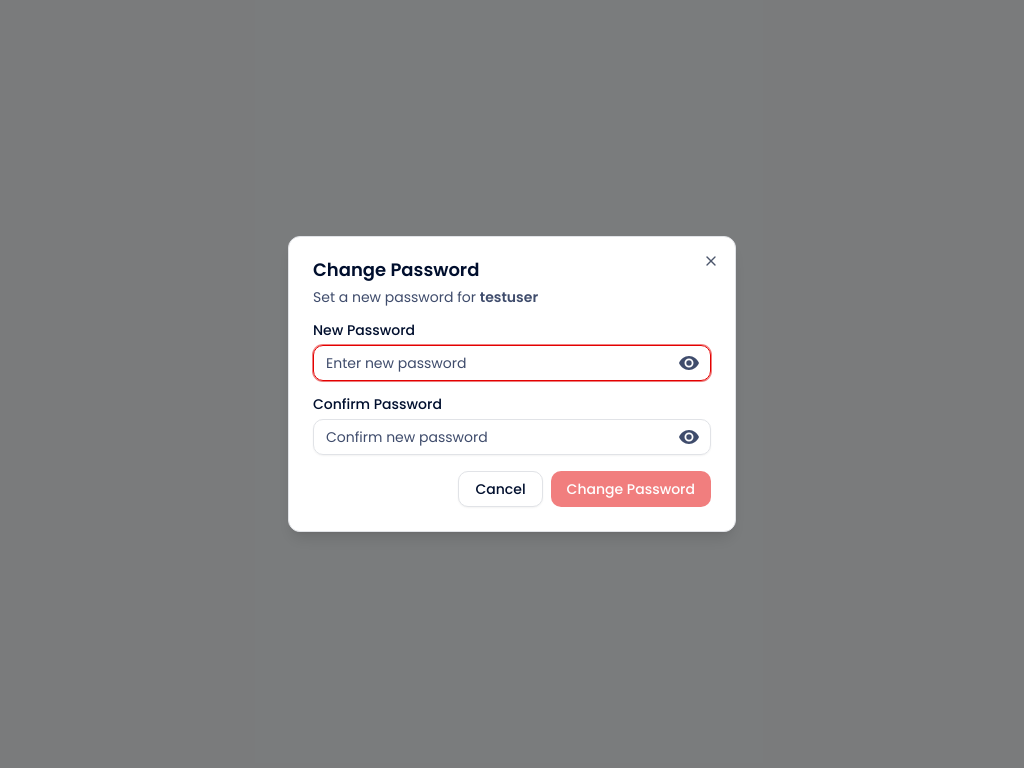
Test: ChangePasswordDialog › shows validation error when password is too short after blur
In the password field with placeholder "Enter new password": (512, 363) 313,345 -> 711,381, type "short"
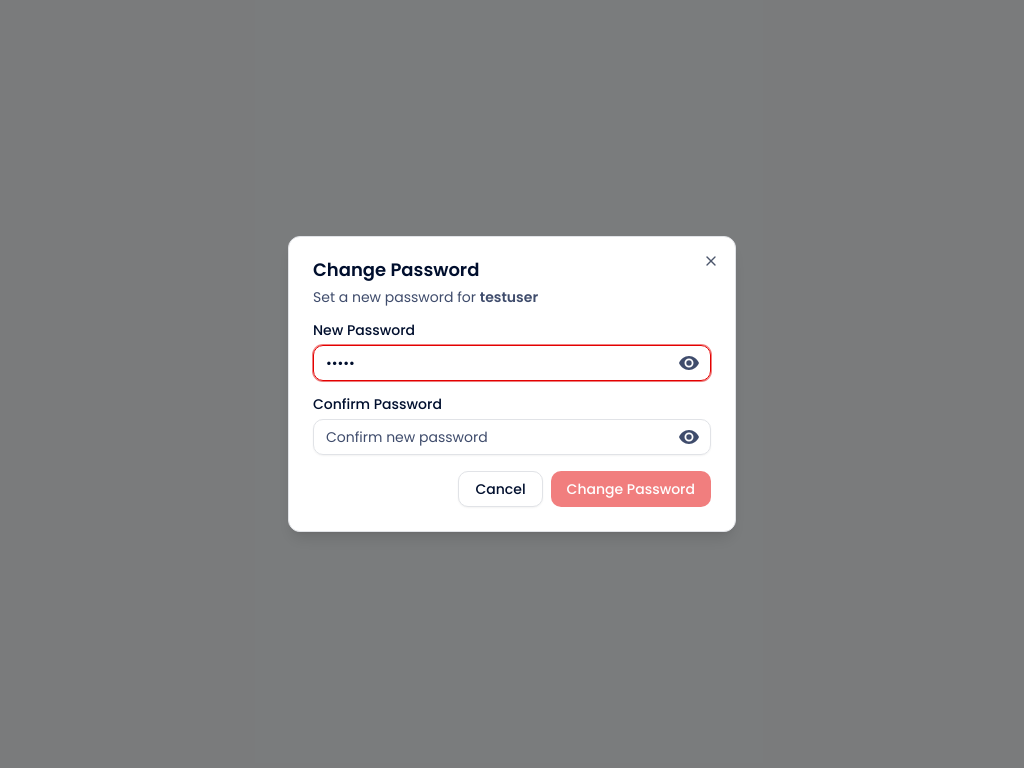
Press Tab
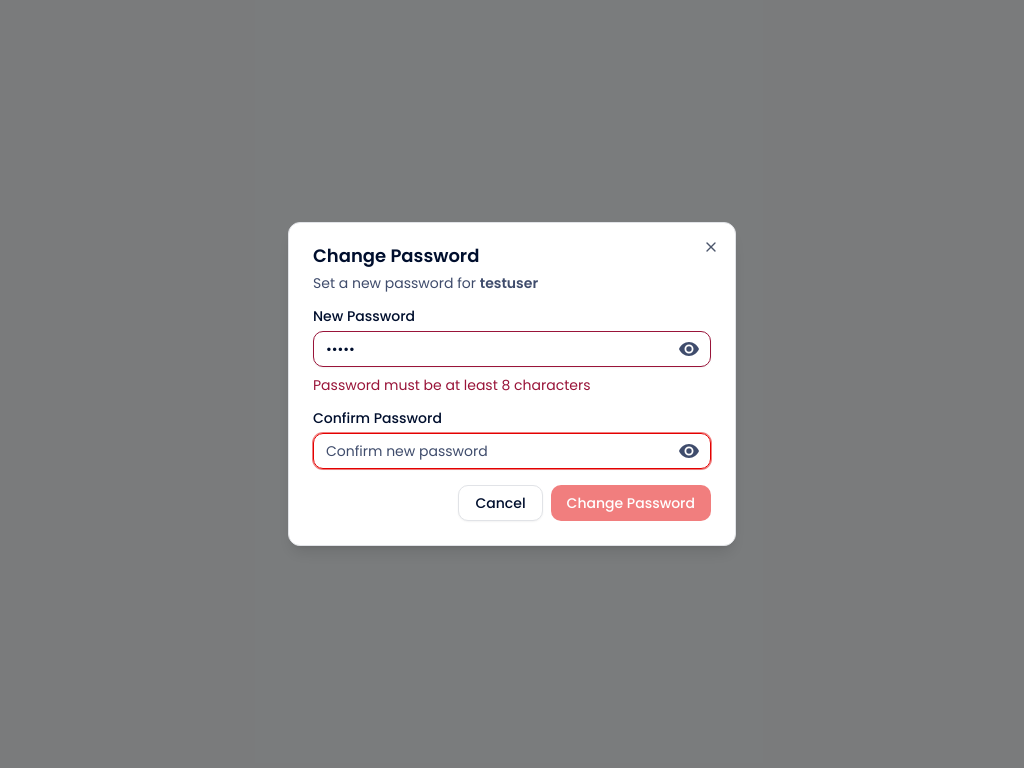
Now the text "Password must be at least 8 characters" is shown, box 313,375 -> 590,395
